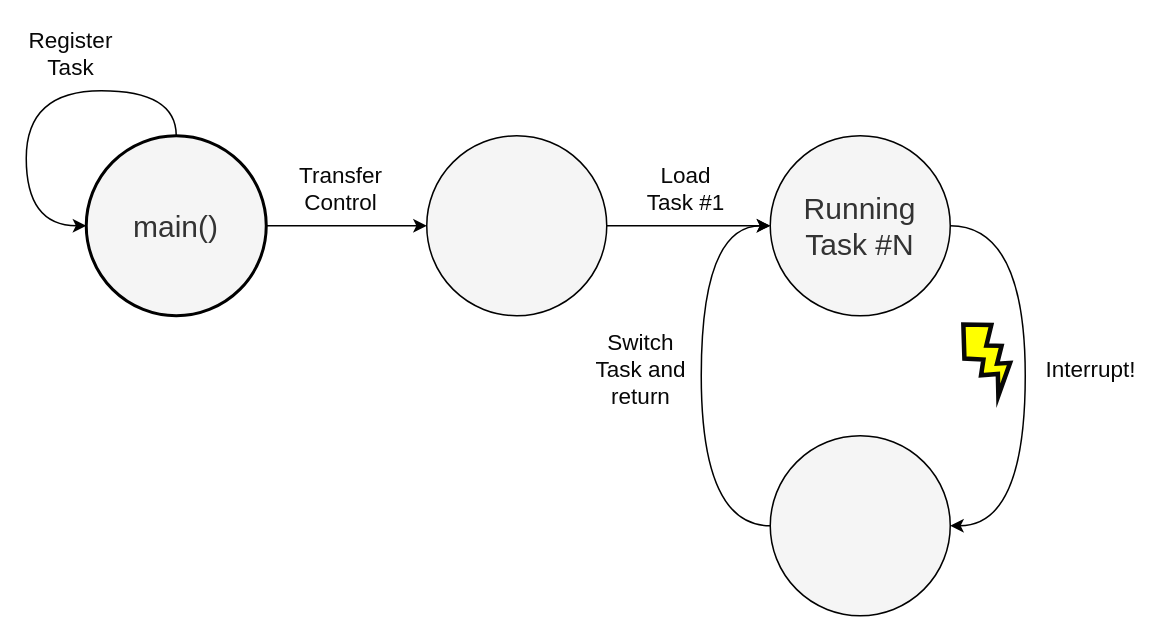
Image size: 1163x642. Some labels were removed from this diagram. The shapes that lost their labels are listed below. From the top down, each one's box as (x1, y1, x2, y2) in pixels, then its label:
(425, 134, 607, 316): Start Kernel
(769, 434, 950, 616): Switch Task
